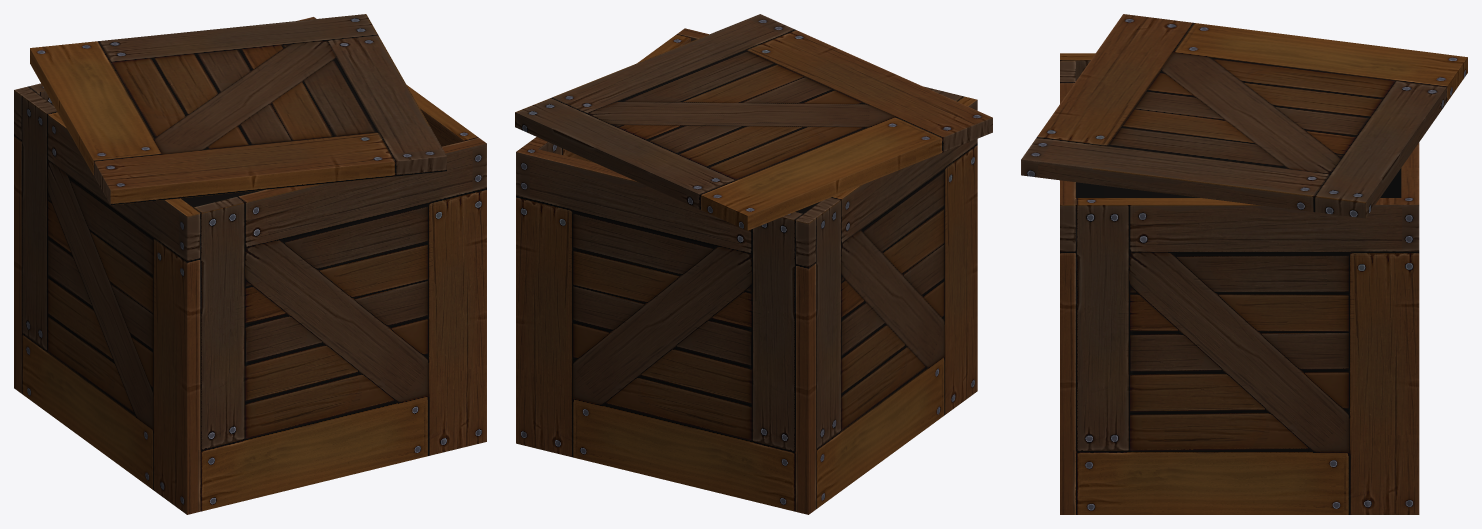
Rendered from crate_open 4.fbx.
3 views of the same model, side by side, from view 1: azimuth 30°, elevation 25°; view 2: azimuth 150°, elevation 25°; view 3: azimuth 270°, elevation 25° (orthographic). The views are drawn at different scales.
Parts seen in each view (by area): view 1: Cube_0_006; view 2: Cube_0_006; view 3: Cube_0_006.
Part boxes in pixels (x1=…): Cube_0_006: x1=14, y1=14, x2=486, y2=514; Cube_0_006: x1=515, y1=14, x2=992, y2=514; Cube_0_006: x1=1021, y1=14, x2=1467, y2=514.
Size of the model in its own units: 1.24 by 1 by 1.24.
